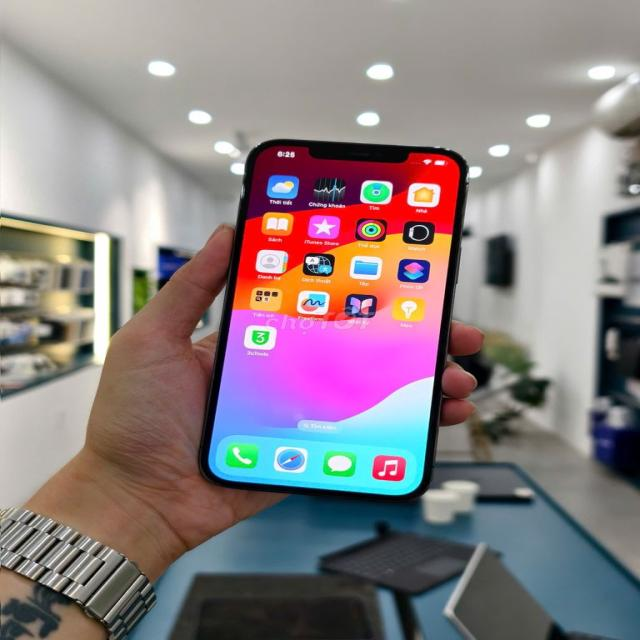gen_12_13: (190, 137, 501, 508)
